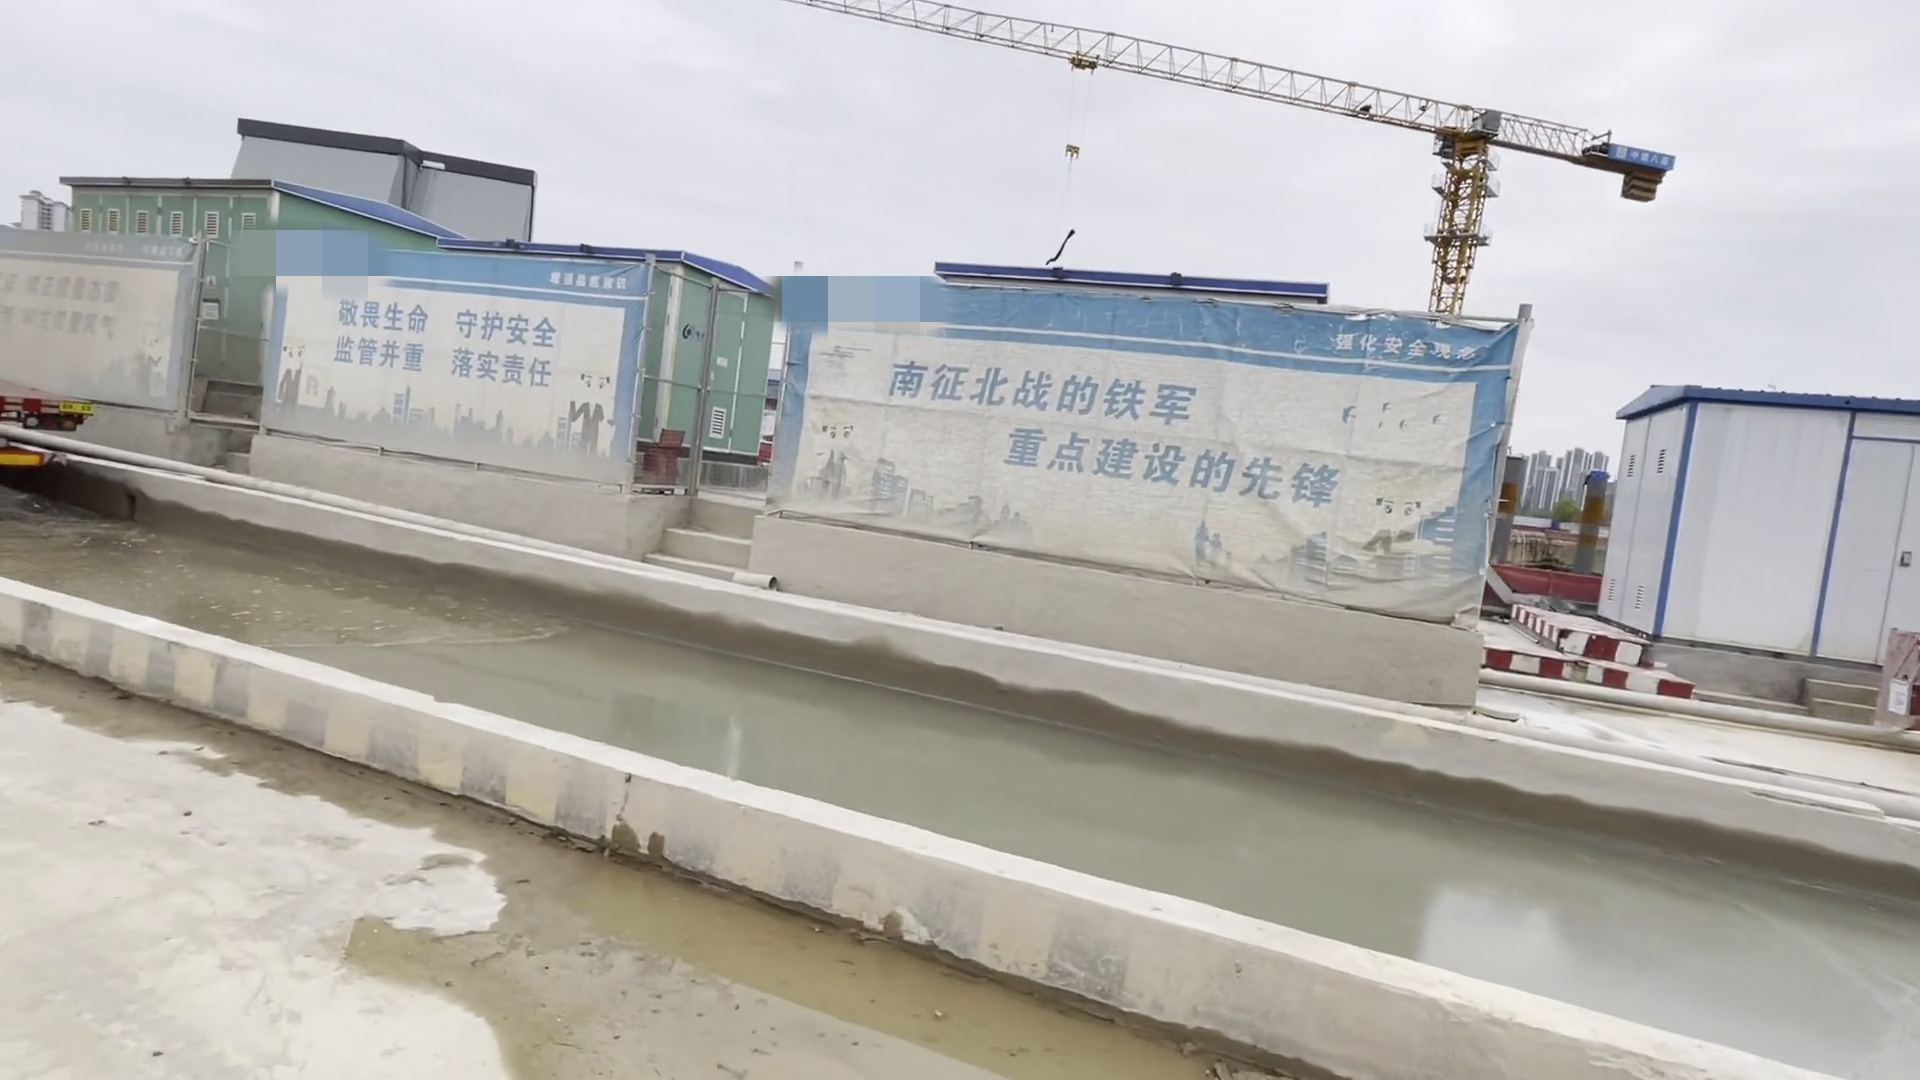hook: (1065, 144, 1081, 160)
slogan: (785, 281, 1520, 560), (272, 266, 633, 388), (1, 240, 203, 334)
